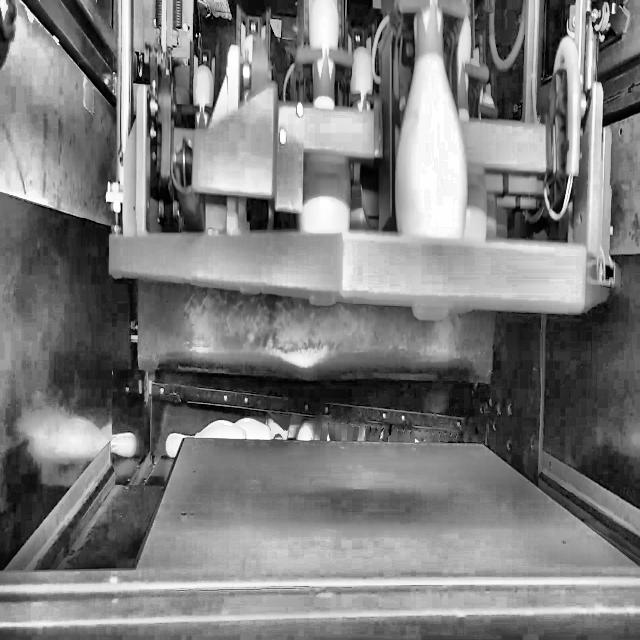bowling-pins: (396, 0, 468, 237)
